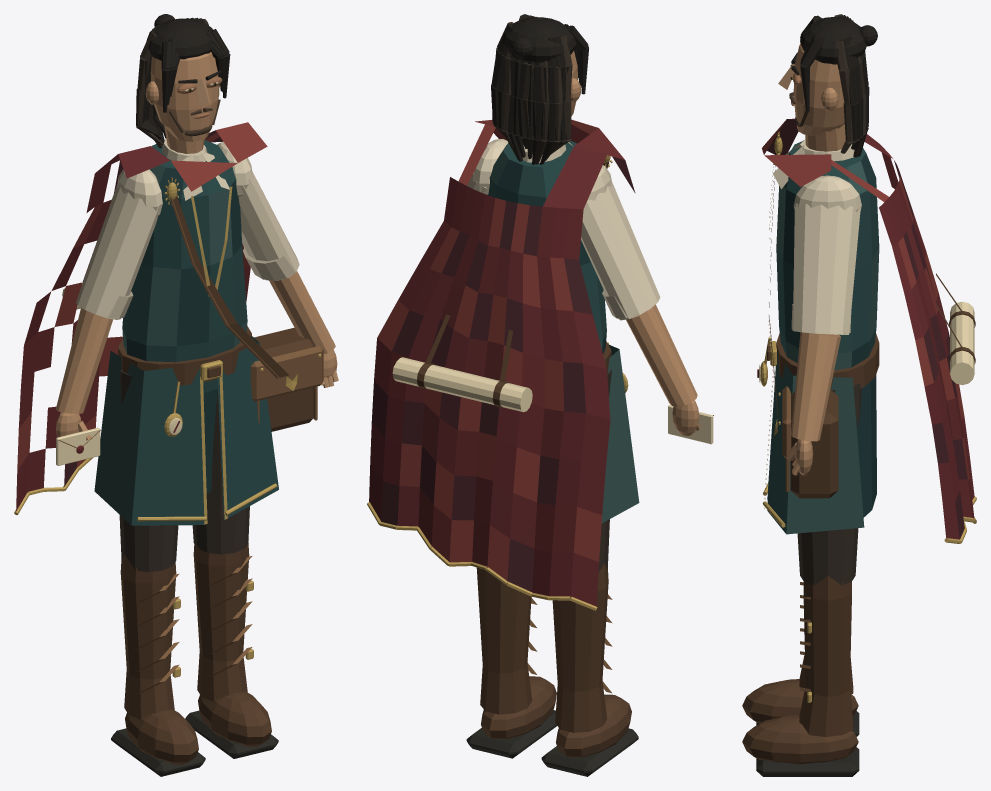
The model's file is human-courier.glb.
3 renders of one model, left to right at view 1: azimuth 30°, elevation 25°; view 2: azimuth 150°, elevation 25°; view 3: azimuth 270°, elevation 25°, orthographic. The views are drawn at different scales.
Visible parts, largest first — view 1: Waistcoat, Split_coat_R, Cloak_folds, Boot_shaft_R, Boot_shaft_L, Split_coat_L, Linen_sleeve_R, Face, Forearm_R, Trouser_thigh_L, Linen_sleeve_L, Boot_toe_R (+15 smaller); view 2: Cloak_folds, Boot_shaft_R, Boot_shaft_L, Linen_sleeve_R, Waistcoat, Split_coat_R, Map_roll, Forearm_R, Boot_toe_R, Boot_toe_L, Hair_crown, Boot_sole_R (+4 smaller); view 3: Cloak_folds, Waistcoat, Linen_sleeve_L, Split_coat_L, Boot_shaft_L, Forearm_L, Boot_toe_L, Trouser_thigh_L, Messenger_satchel, Face, Back_coat, Boot_toe_R (+9 smaller).
Boxes of the visible parts, x1,y1,x2,y2 form: Waistcoat: (122,140,247,392); Split_coat_R: (94,351,205,525); Cloak_folds: (16,122,267,511); Boot_shaft_R: (120,555,176,719); Boot_shaft_L: (193,540,249,701); Split_coat_L: (217,336,278,520); Linen_sleeve_R: (76,184,159,319); Face: (150,52,219,141); Forearm_R: (55,307,112,413); Trouser_thigh_L: (192,390,249,554); Linen_sleeve_L: (238,170,299,280); Boot_toe_R: (125,709,198,764); Cloak_folds: (369,119,635,606); Boot_shaft_R: (552,563,608,732); Boot_shaft_L: (476,567,532,714); Linen_sleeve_R: (581,180,660,320); Waistcoat: (488,140,606,354); Split_coat_R: (601,344,639,523); Map_roll: (392,357,532,412); Forearm_R: (626,304,697,406); Boot_toe_R: (556,694,631,757); Boot_toe_L: (481,676,556,738); Hair_crown: (502,17,576,62); Boot_sole_R: (541,728,638,776); Cloak_folds: (762,118,974,539); Waistcoat: (776,141,879,370); Linen_sleeve_L: (793,203,860,334); Split_coat_L: (767,351,864,534); Boot_shaft_L: (799,575,853,736); Forearm_L: (791,332,840,441); Boot_toe_L: (742,715,858,764); Trouser_thigh_L: (797,383,861,585); Messenger_satchel: (790,389,838,498); Face: (793,43,844,136); Back_coat: (856,375,876,517); Boot_toe_R: (742,679,858,723).
Size of the model in its own units: 0.7395 by 1.76 by 0.5149.
